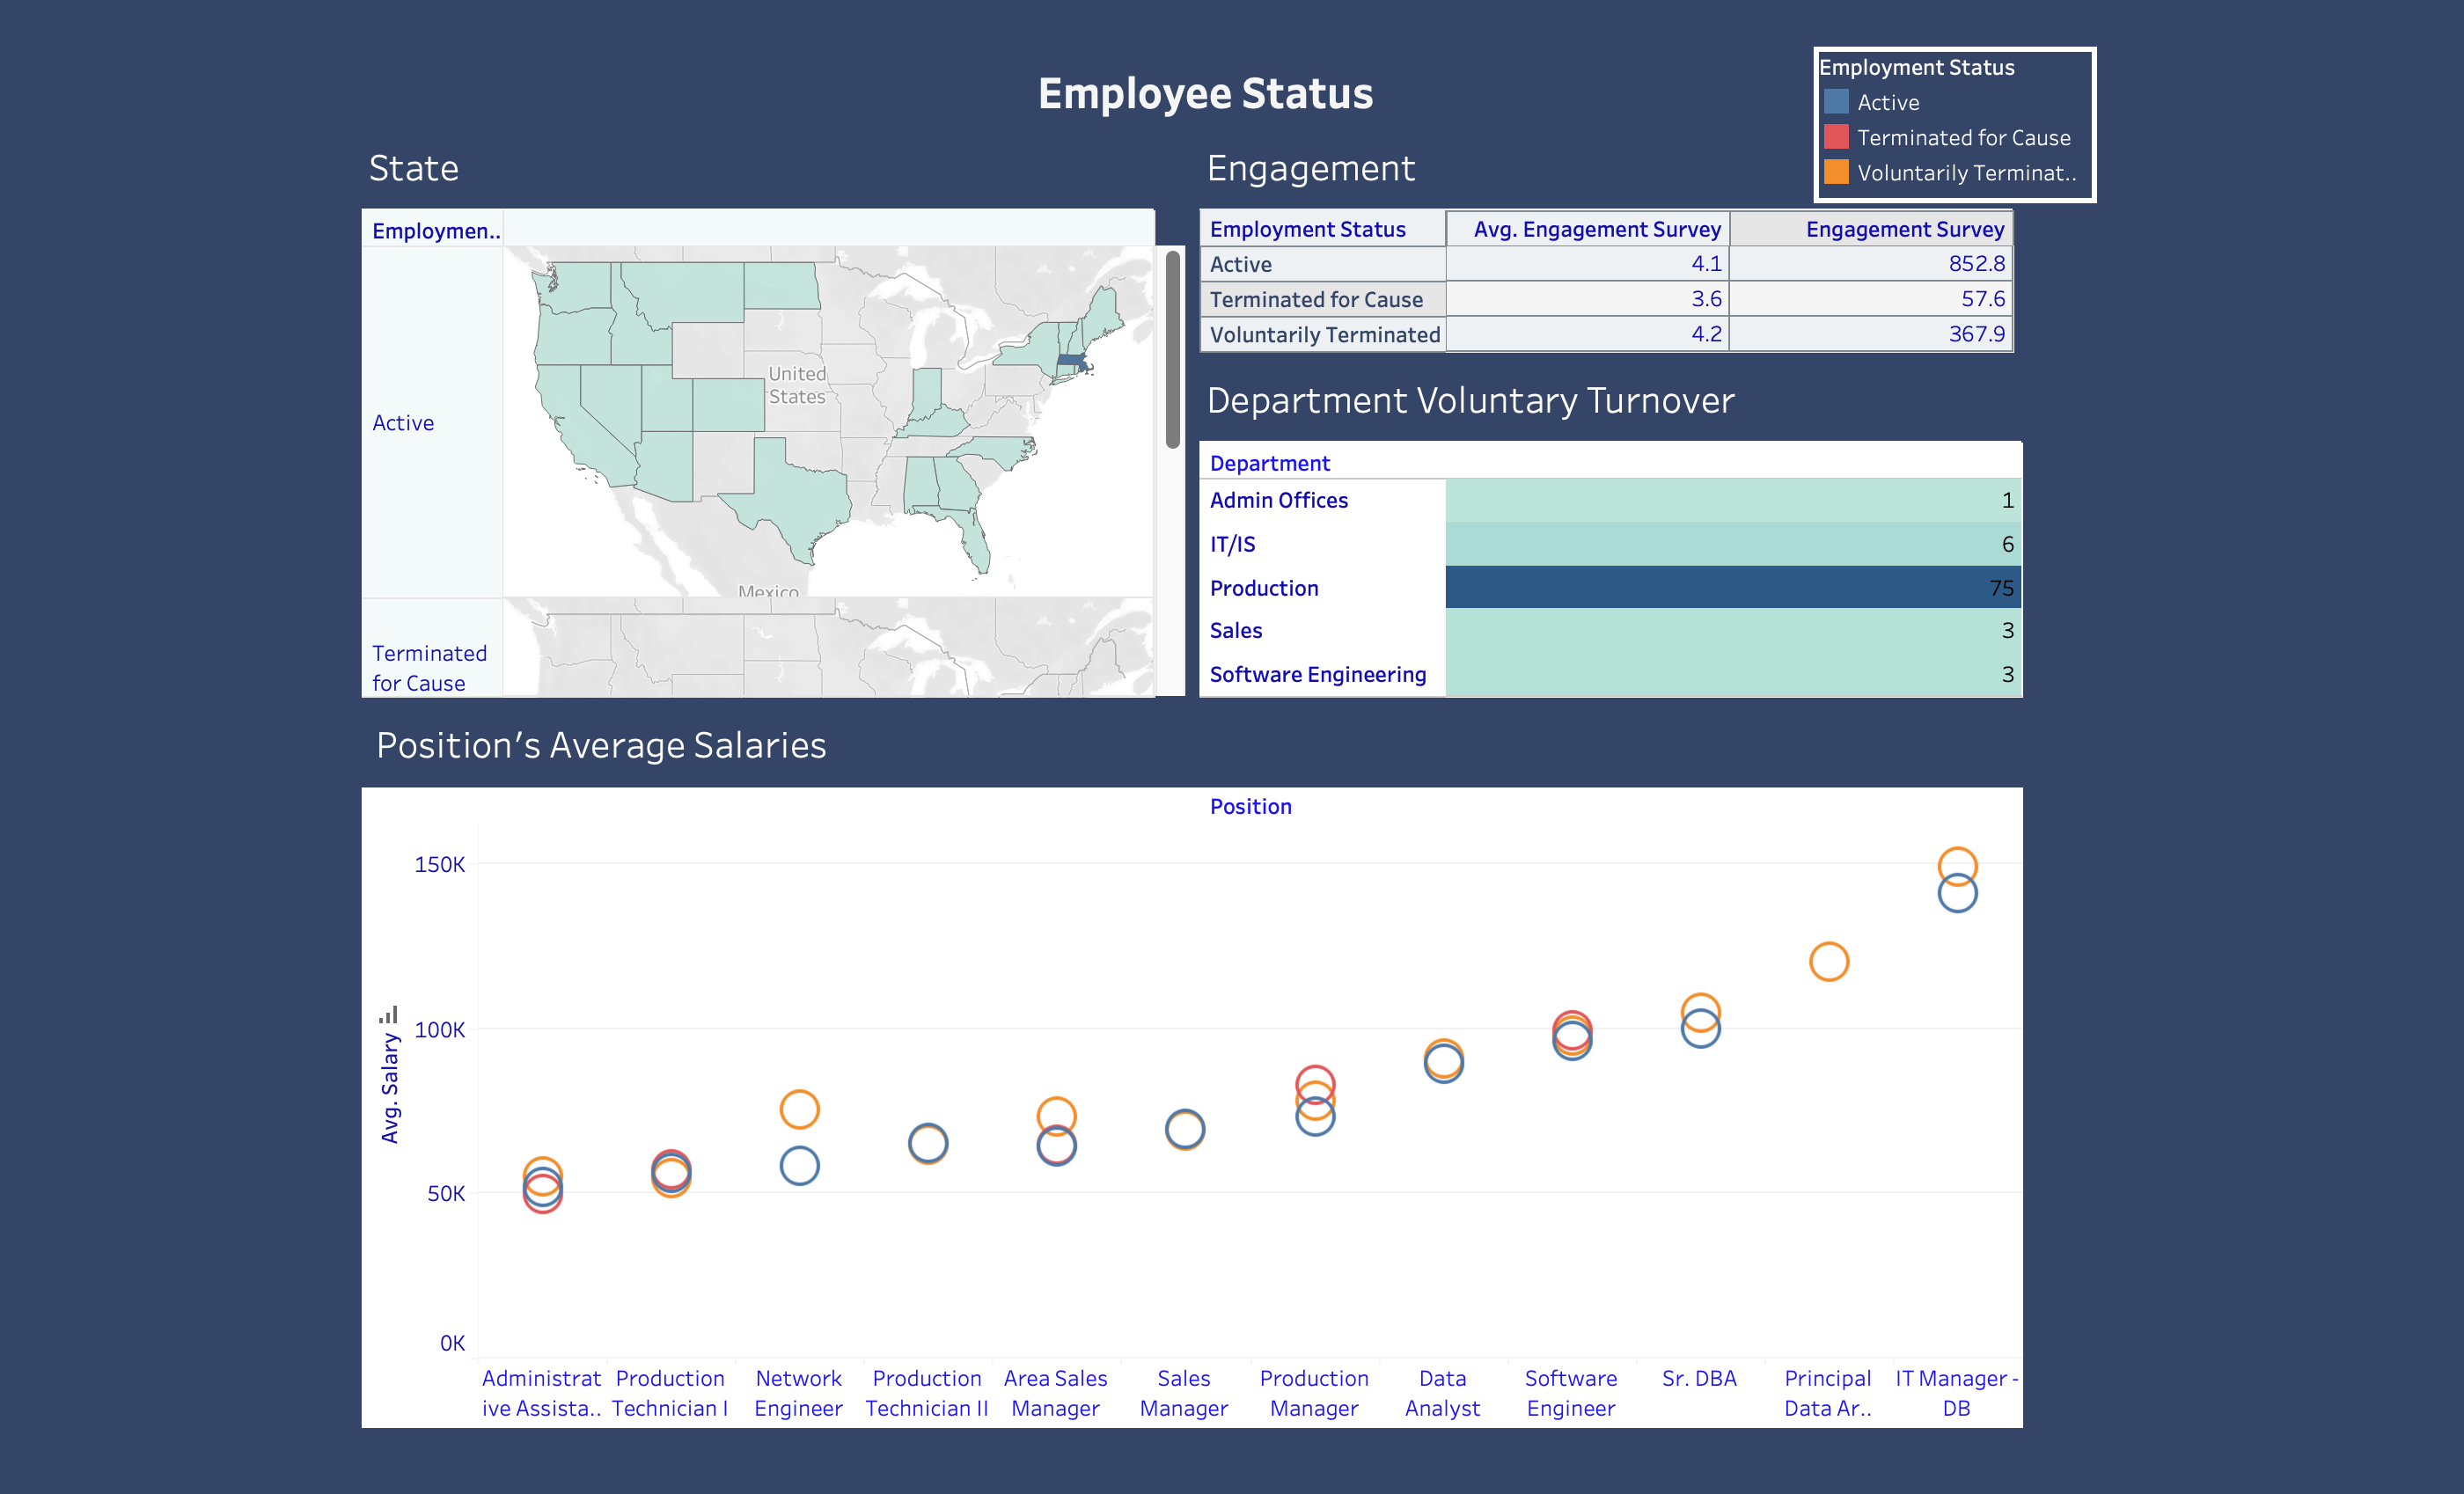

This screenshot's page, from the dashboard's own definition file:
{"tool":"tableau","page":{"name":"Dashboard 1","canvas":[1000,800],"ordinal":0},"visuals":[{"type":"legend","title":"Act_Vol_Term_Avg_Salaries","param":"[federated.05i7umj074r3sq1aiervp1dqhdzf].[none:Employment_Status:nk]","box":[837,3,161,94]},{"type":"title","box":[8,8,952,41]},{"type":"worksheet","title":"Employment Status Location","mark":"Automatic","rows":["Employment_Status"],"box":[8,49,476,328.4]},{"type":"worksheet","title":"Engagement_Status","mark":"Automatic","rows":["Employment_Status"],"box":[484,49,476,132.2]},{"type":"worksheet","title":"Dept_Vol_Term","mark":"Square","rows":["Department"],"box":[484,181.2,476,196.3]},{"type":"worksheet","title":"Act_Vol_Term_Avg_Salaries","mark":"Shape","rows":["Salary"],"cols":["Position"],"box":[8,377.4,952,414.6]}]}

Visuals, with their boxes on the page's 1000x800 design canvas (x1, y1, x2, y2). These are canvas units, not pixel positions in the 2464x1494 screenshot, which may show the page scaled, cropped or inside an application window:
"Act_Vol_Term_Avg_Salaries" legend: Rect(837, 3, 998, 97)
title: Rect(8, 8, 960, 49)
"Employment Status Location" worksheet: Rect(8, 49, 484, 377)
"Engagement_Status" worksheet: Rect(484, 49, 960, 181)
"Dept_Vol_Term" worksheet (Square marks): Rect(484, 181, 960, 378)
"Act_Vol_Term_Avg_Salaries" worksheet (Shape marks): Rect(8, 377, 960, 792)
